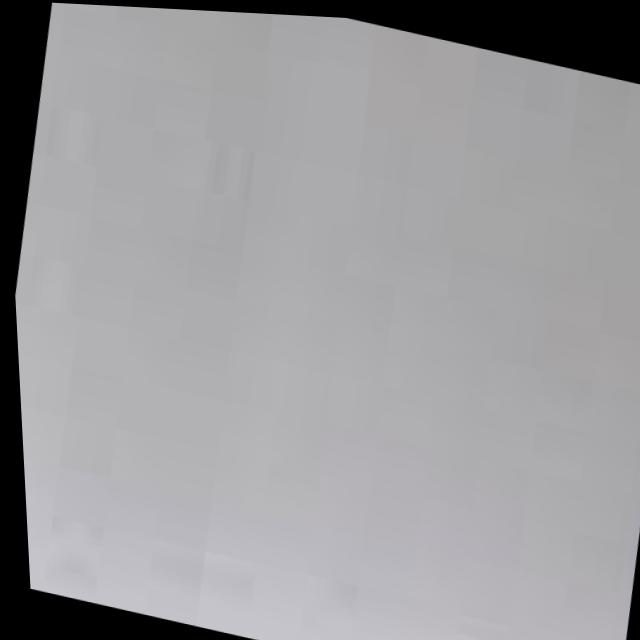metal-plates: (13, 3, 640, 640)
